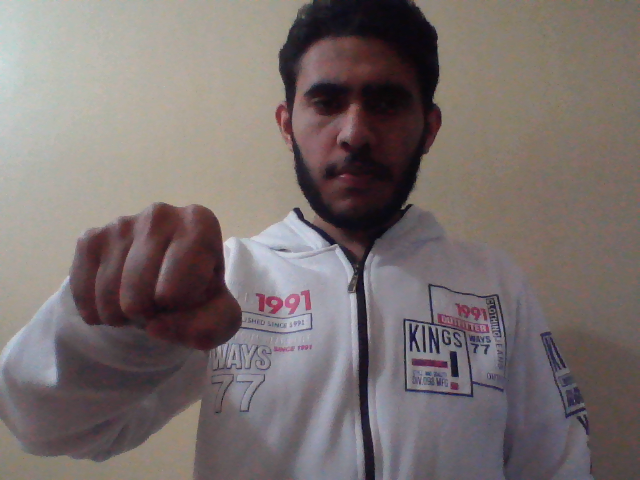yes: (65, 201, 249, 361)
